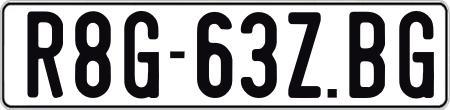3: (239, 10, 277, 102)
6: (194, 10, 229, 101)
8: (74, 9, 112, 100)
B: (349, 11, 390, 98)
G: (123, 11, 162, 99), (396, 9, 432, 99)
R: (26, 8, 61, 95)
Z: (288, 11, 326, 100)
